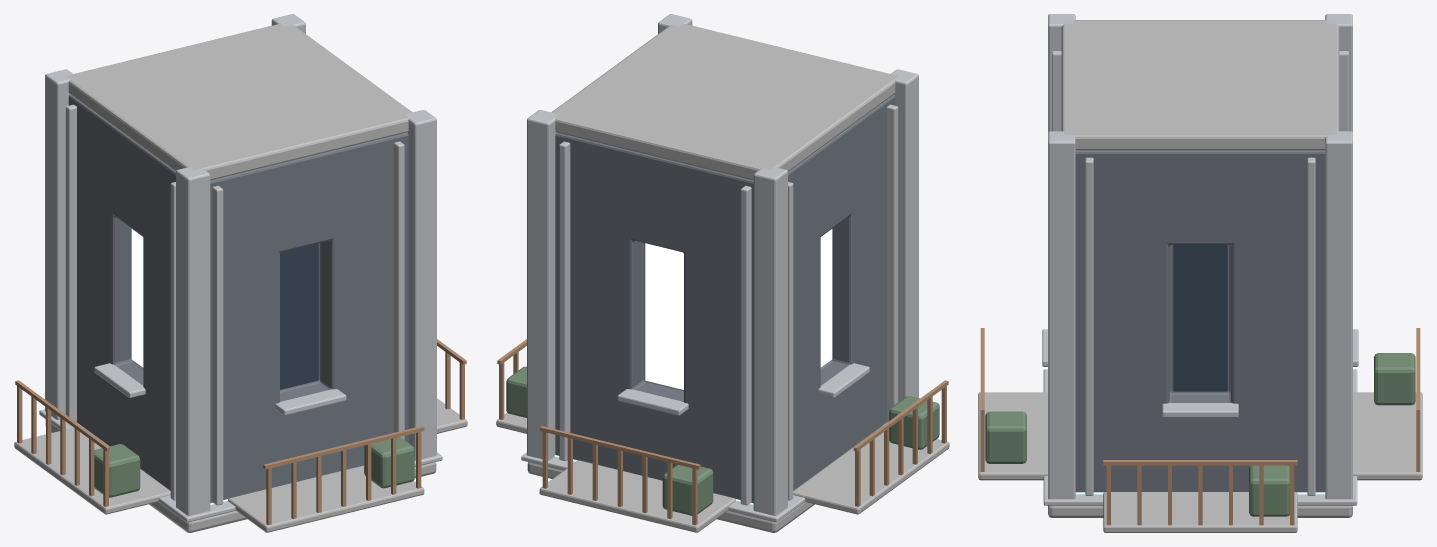
File: res_2x2.glb
3 views of the same model, side by side, from view 1: azimuth 30°, elevation 25°; view 2: azimuth 150°, elevation 25°; view 3: azimuth 270°, elevation 25° (orthographic). The views are drawn at different scales.
Parts seen in each view (by area): view 1: ext_wall, int_ceiling, int_columns, ext_frames, ext_balcony3, ext_panes_dark, ext_balcony2, ext_rail3, ext_rail2, ext_plant2, ext_plant3, ext_panes_lit (+4 smaller); view 2: ext_wall, int_ceiling, int_columns, ext_frames, ext_panes_lit, ext_balcony1, ext_balcony2, ext_rail1, ext_rail2, ext_plant1, ext_plant2, int_slab (+3 smaller); view 3: ext_wall, int_ceiling, int_columns, ext_frames, ext_panes_dark, ext_balcony0, ext_balcony1, ext_balcony3, ext_rail0, ext_plant1, ext_plant3, ext_plant0 (+4 smaller).
Part boxes in pixels (x1,y1,x2,y2): ext_wall: (68, 94, 408, 503); int_ceiling: (66, 23, 412, 180); int_columns: (45, 14, 436, 515); ext_frames: (65, 104, 404, 505); ext_balcony3: (228, 465, 424, 532); ext_panes_dark: (280, 243, 318, 389); ext_balcony2: (14, 426, 170, 514); ext_rail3: (263, 426, 424, 525); ext_rail2: (15, 380, 110, 506); ext_plant2: (94, 444, 140, 497); ext_plant3: (364, 437, 414, 488); ext_panes_lit: (131, 229, 143, 367); ext_wall: (555, 94, 895, 503); int_ceiling: (551, 23, 897, 180); int_columns: (527, 14, 918, 515); ext_frames: (559, 104, 898, 505); ext_panes_lit: (645, 229, 832, 389); ext_balcony1: (539, 460, 735, 532); ext_balcony2: (793, 426, 949, 514); ext_rail1: (539, 426, 700, 525); ext_rail2: (853, 380, 948, 506); ext_plant1: (662, 464, 713, 515); ext_plant2: (889, 396, 939, 449); int_slab: (527, 462, 814, 532); ext_wall: (1075, 150, 1325, 492); int_ceiling: (1061, 20, 1339, 150); int_columns: (1048, 14, 1352, 499); ext_frames: (1042, 51, 1358, 495); ext_panes_dark: (1173, 244, 1227, 391); ext_balcony0: (1103, 492, 1297, 532); ext_balcony1: (1353, 392, 1422, 480); ext_balcony3: (978, 392, 1047, 480); ext_rail0: (1103, 460, 1297, 525); ext_plant1: (1374, 353, 1415, 405); ext_plant3: (985, 411, 1026, 463); ext_plant0: (1249, 465, 1289, 516).
Bounding box in the file's own units: 3.2 × 3 × 3.2.
